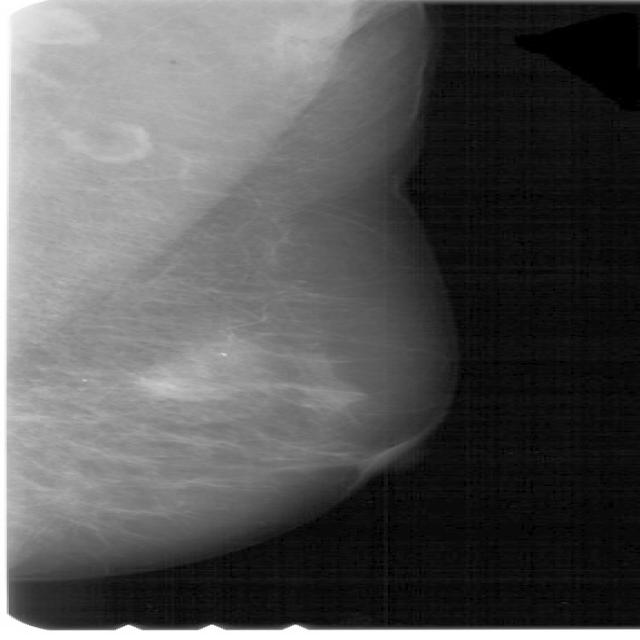tumour: (290, 382, 366, 412)
